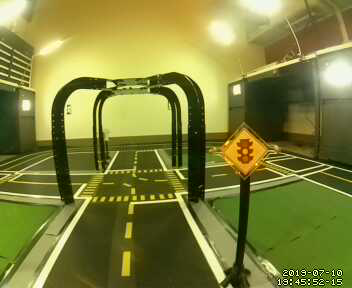Traffic light sign: (224, 125, 268, 176)
